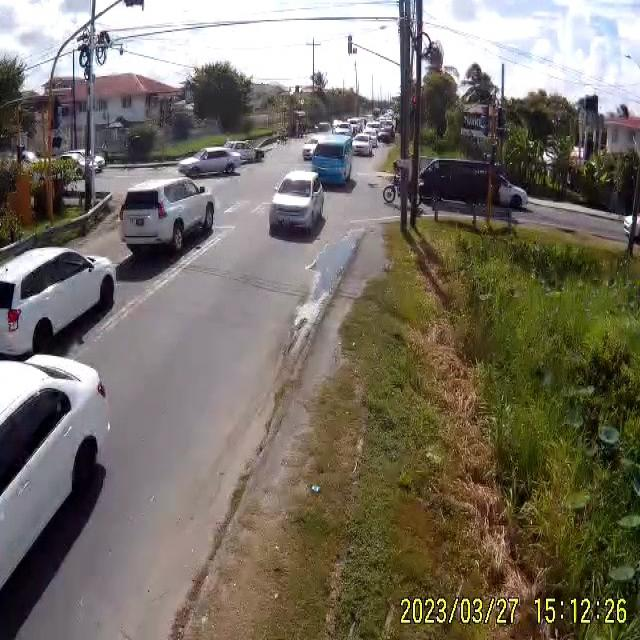car: (0, 244, 123, 362), (413, 157, 529, 221), (120, 178, 216, 255), (270, 171, 327, 241), (310, 138, 358, 188), (180, 148, 242, 178), (59, 150, 104, 174), (354, 134, 375, 156)
motorbike: (386, 160, 416, 212)
